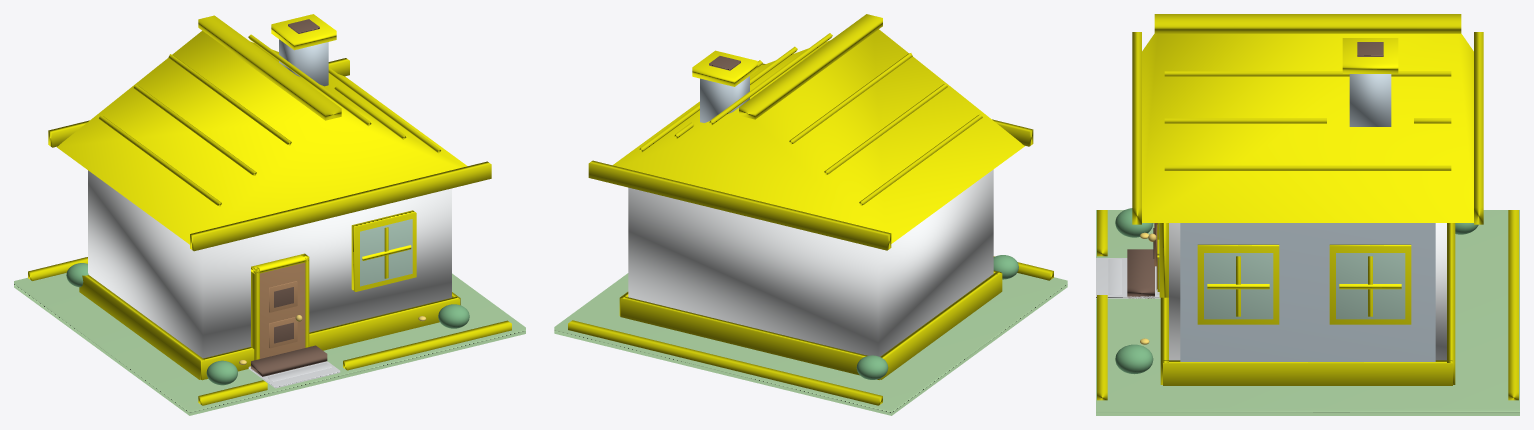
File: casa_detallada_yellow.glb
3 views of the same model, side by side, from view 1: azimuth 30°, elevation 25°; view 2: azimuth 150°, elevation 25°; view 3: azimuth 270°, elevation 25° (orthographic). The views are drawn at different scales.
Parts seen in each view (by area): view 1: Casa_Techo_Rojo_Detallado, Casa_Paredes_Suaves, Casa_Grama_Base_Redondeada, Casa_Techo_Fascia_Frontal, Casa_Zocalo_Frontal_Rojo, Casa_Techo_Cumbrera_Roja, Casa_Zocalo_Izquierdo_Rojo, Ventana_Frontal_Principal_Cristal, Puerta_Cuerpo_Madera, Casa_Borde_Base_Frontal_Derecho, Ventana_Frontal_Principal_Marco_Azul, Casa_Chimenea_Cuerpo (+17 smaller); view 2: Casa_Techo_Rojo_Detallado, Casa_Paredes_Suaves, Casa_Grama_Base_Redondeada, Casa_Techo_Fascia_Trasero, Casa_Zocalo_Trasero_Rojo, Casa_Borde_Base_Trasero, Casa_Techo_Cumbrera_Roja, Casa_Zocalo_Izquierdo_Rojo, Casa_Chimenea_Cuerpo, Casa_Chimenea_Tapa_Roja, Casa_Techo_Linea_Teja_Der_1, Casa_Techo_Linea_Teja_Izq_2 (+5 smaller); view 3: Casa_Techo_Rojo_Detallado, Casa_Grama_Base_Redondeada, Casa_Pared_Lateral_Azulada, Casa_Zocalo_Derecho_Rojo, Casa_Techo_Cumbrera_Roja, Ventana_Lateral_Frontal_Cristal, Ventana_Lateral_Trasera_Cristal, Casa_Paredes_Suaves, Casa_Chimenea_Cuerpo, Ventana_Lateral_Frontal_Marco_Azul, Ventana_Lateral_Trasera_Marco_Azul, Casa_Borde_Base_Trasero (+17 smaller).
Boxes of the visible parts, box(x1,y1,x2,y2) form: Casa_Techo_Rojo_Detallado: box(57, 30, 467, 244); Casa_Paredes_Suaves: box(88, 170, 451, 358); Casa_Grama_Base_Redondeada: box(14, 273, 525, 415); Casa_Techo_Fascia_Frontal: box(190, 161, 491, 251); Casa_Zocalo_Frontal_Rojo: box(200, 296, 459, 380); Casa_Techo_Cumbrera_Roja: box(198, 15, 341, 120); Casa_Zocalo_Izquierdo_Rojo: box(79, 275, 204, 379); Ventana_Frontal_Principal_Cristal: box(360, 219, 412, 286); Puerta_Cuerpo_Madera: box(260, 262, 305, 358); Casa_Borde_Base_Frontal_Derecho: box(343, 320, 511, 370); Ventana_Frontal_Principal_Marco_Azul: box(351, 210, 416, 291); Casa_Chimenea_Cuerpo: box(279, 39, 328, 86); Casa_Techo_Rojo_Detallado: box(613, 29, 1024, 243); Casa_Paredes_Suaves: box(628, 169, 993, 356); Casa_Grama_Base_Redondeada: box(554, 273, 1067, 415); Casa_Techo_Fascia_Trasero: box(588, 160, 891, 250); Casa_Zocalo_Trasero_Rojo: box(620, 296, 879, 379); Casa_Borde_Base_Trasero: box(568, 320, 882, 405); Casa_Techo_Cumbrera_Roja: box(739, 14, 882, 119); Casa_Zocalo_Izquierdo_Rojo: box(880, 272, 1002, 379); Casa_Chimenea_Cuerpo: box(700, 76, 749, 122); Casa_Chimenea_Tapa_Roja: box(692, 50, 757, 86); Casa_Techo_Linea_Teja_Der_1: box(709, 33, 832, 124); Casa_Techo_Linea_Teja_Izq_2: box(824, 83, 947, 174); Casa_Techo_Rojo_Detallado: box(1142, 33, 1473, 222); Casa_Grama_Base_Redondeada: box(1096, 210, 1519, 415); Casa_Pared_Lateral_Azulada: box(1180, 223, 1435, 361); Casa_Zocalo_Derecho_Rojo: box(1163, 360, 1452, 385); Casa_Techo_Cumbrera_Roja: box(1154, 14, 1461, 33); Ventana_Lateral_Frontal_Cristal: box(1204, 253, 1273, 319); Ventana_Lateral_Trasera_Cristal: box(1336, 253, 1405, 319); Casa_Paredes_Suaves: box(1169, 223, 1446, 360); Casa_Chimenea_Cuerpo: box(1349, 74, 1391, 126); Ventana_Lateral_Frontal_Marco_Azul: box(1197, 244, 1279, 324); Ventana_Lateral_Trasera_Marco_Azul: box(1329, 244, 1411, 324); Casa_Borde_Base_Trasero: box(1508, 210, 1518, 400).
Bounding box in the file's own units: 1.35 × 0.9689 × 1.22.
